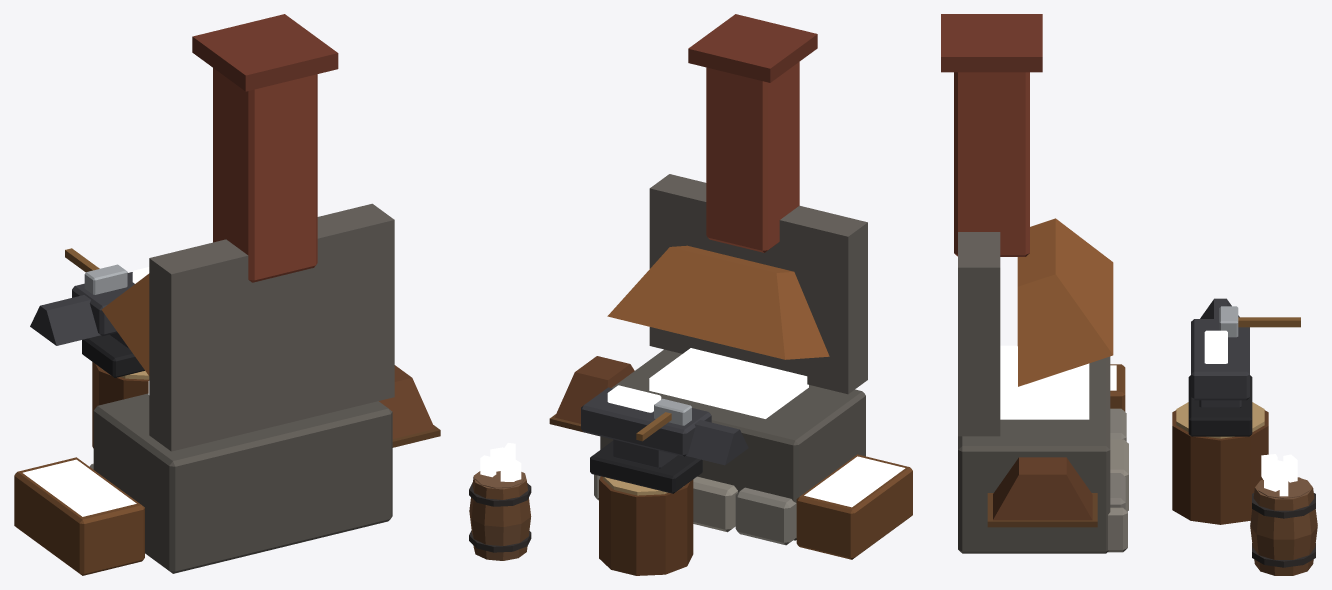
File: StarfallForge.glb
The picture shows the model from 3 angles, left to right: view 1: azimuth 30°, elevation 25°; view 2: azimuth 150°, elevation 25°; view 3: azimuth 270°, elevation 25°; orthographic projection. The views are drawn at different scales.
Parts seen in each view (by area): view 1: Body, StarfallForge, Glow; view 2: Body, Glow, StarfallForge; view 3: Body, Glow, StarfallForge.
Part boxes in pixels (x1,y1,x2,y2): Body: (14,14,440,575); StarfallForge: (30,272,144,377); Glow: (23,267,149,516); Body: (469,14,912,575); Glow: (480,348,905,507); StarfallForge: (581,387,748,493); Body: (941,14,1317,575); Glow: (1000,330,1297,496); StarfallForge: (1188,298,1252,436).
Size of what is drawn, in the model's own units: 9.25 by 12.2 by 8.9.
